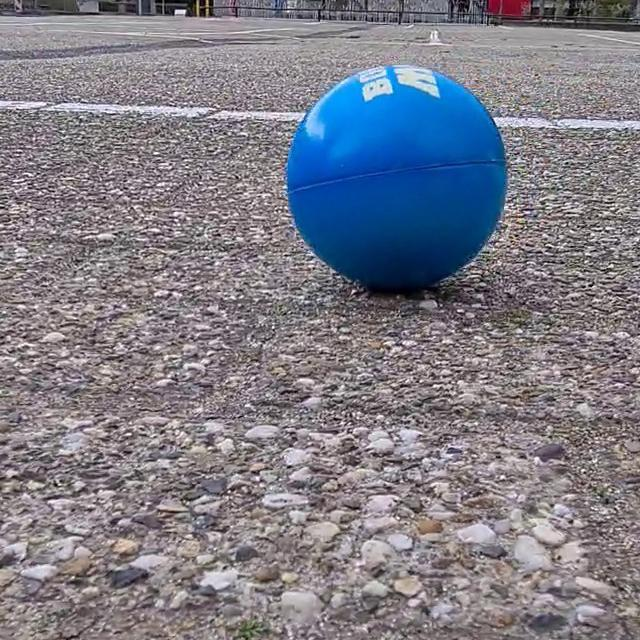ball: (282, 103, 512, 296)
